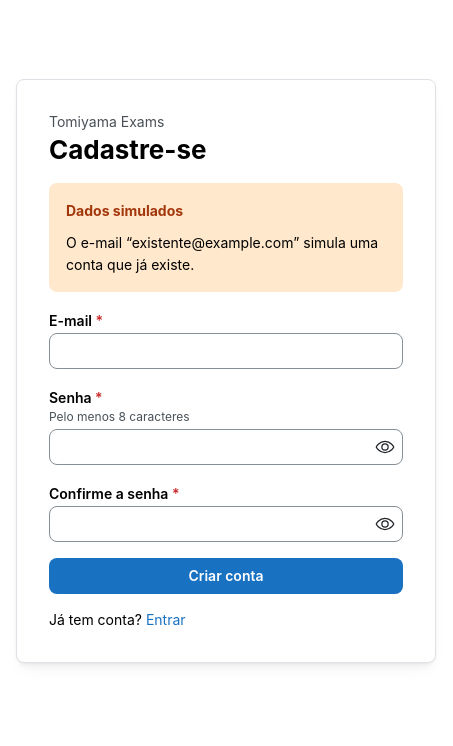
cadastro de responsável (§ 6.1): passo do e-mail e senha › valida {"password":" senha-forte"} no cliente
The image size is (453, 746).
Type "mae@example.com" into the field labelled "E-mail *" at (226, 351), box [49,333,403,369]
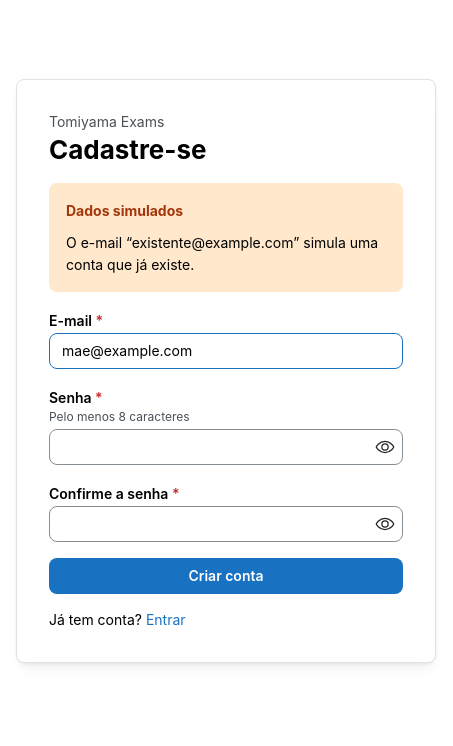
Type " senha-forte" into the password field labelled "Senha *" at (226, 447), box [50,430,402,464]
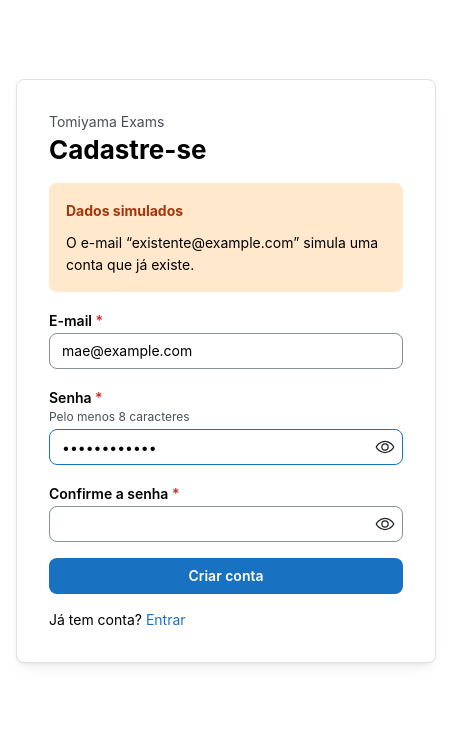
Type " senha-forte" into the password field labelled "Confirme a senha *" at (226, 524), box [50,507,402,541]
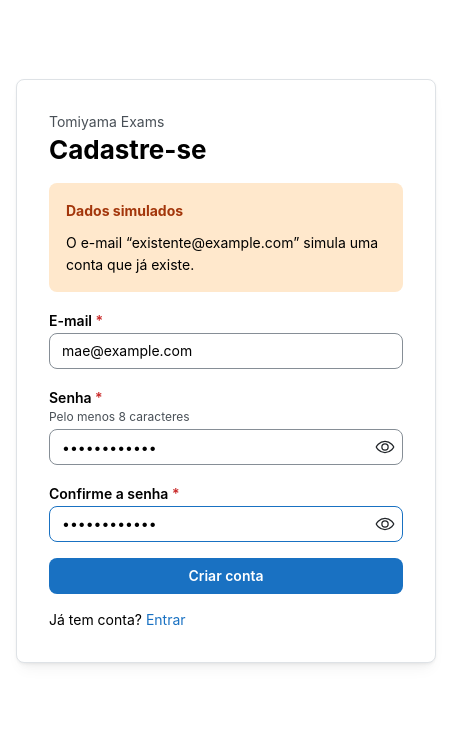
Click the button "Criar conta" at (226, 576), box [49,558,403,594]
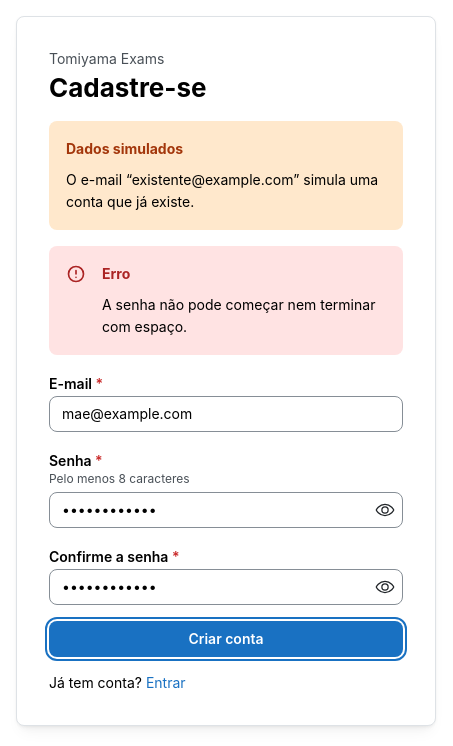
Expected: the heading "Cadastre-se" is shown, [49,72,207,102]
Expected: the message shows "A senha não pode começar nem terminar com espaço.", [102,296,375,335]
